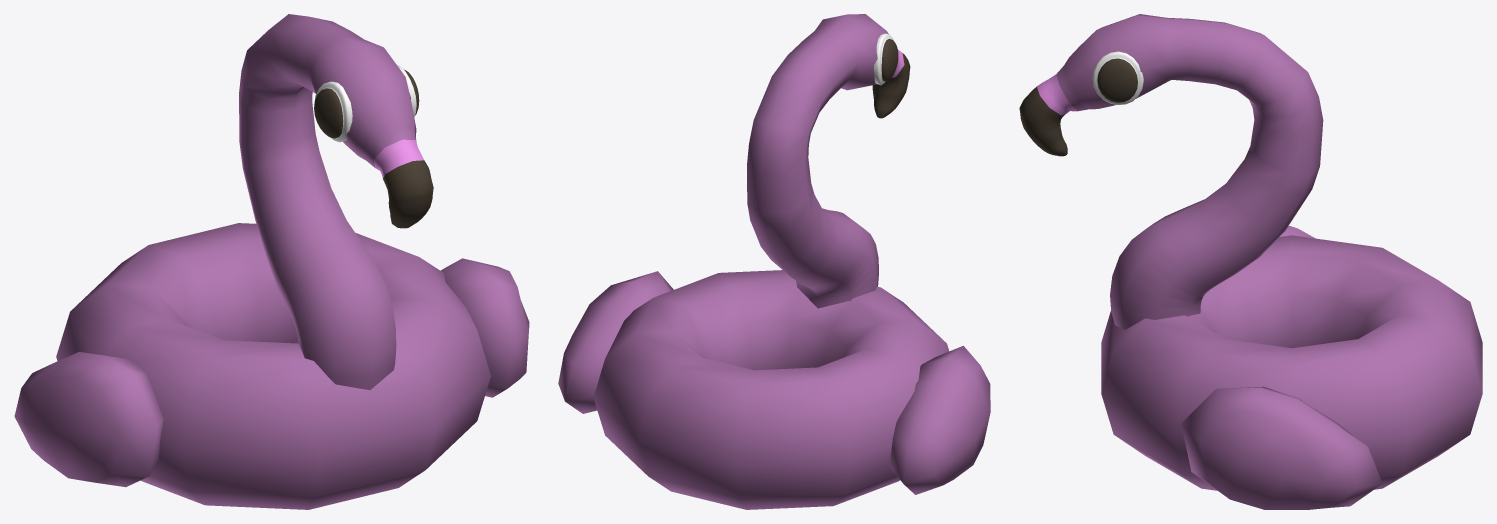
File: ENV_Flamingo_Float.fbx
The picture shows the model from 3 angles, left to right: view 1: azimuth 30°, elevation 25°; view 2: azimuth 150°, elevation 25°; view 3: azimuth 270°, elevation 25°; orthographic projection. The views are drawn at different scales.
Parts seen in each view (by area): view 1: ENV_Flamingo_Float; view 2: ENV_Flamingo_Float; view 3: ENV_Flamingo_Float.
Part boxes in pixels (x1=…): ENV_Flamingo_Float: x1=14, y1=14, x2=529, y2=509; ENV_Flamingo_Float: x1=558, y1=14, x2=990, y2=509; ENV_Flamingo_Float: x1=1019, y1=14, x2=1482, y2=509.
Size of the model in its own units: 0.7736 by 0.7206 by 0.7196.
